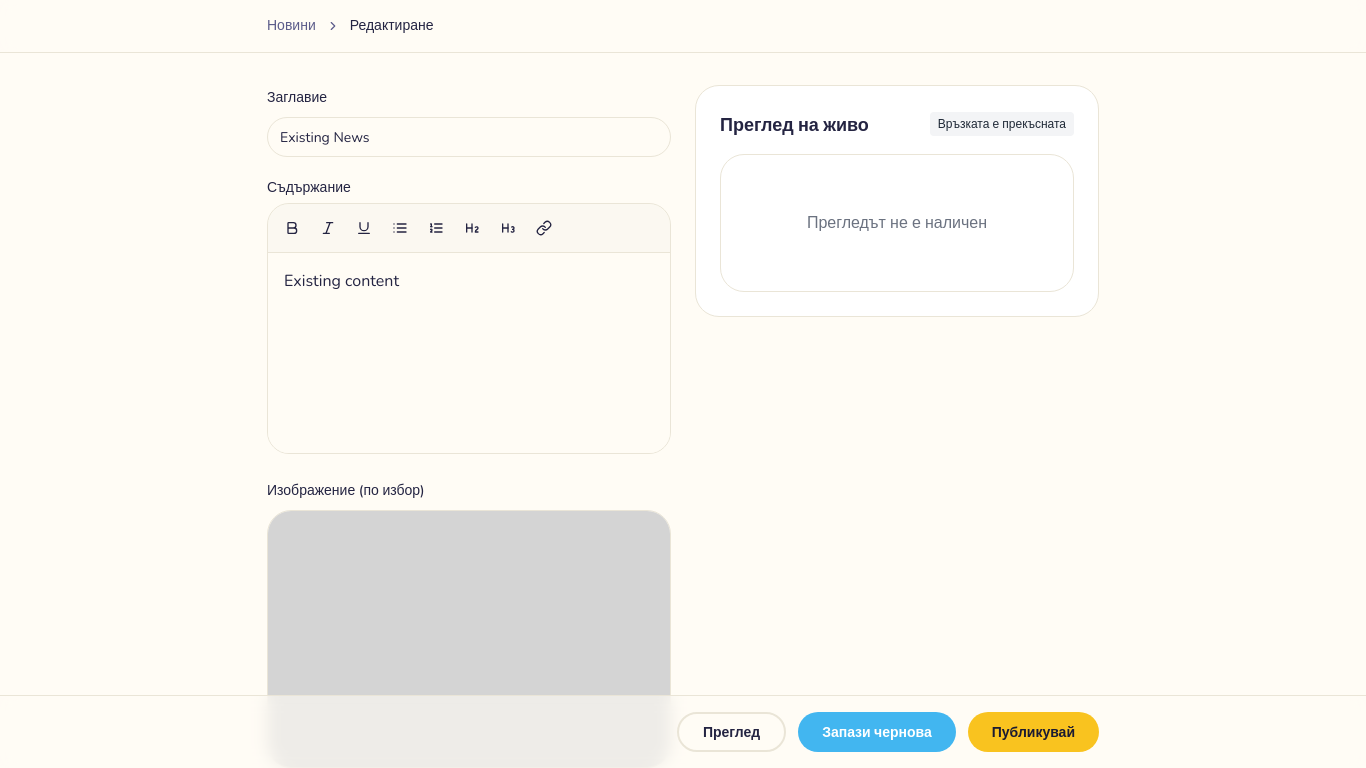
NewsEdit › Publish/Update Functionality (Story 3.8) › disables all buttons during publish operation
Check: the field showing "Existing News" is shown, box [267,117,671,157]
Note: Click publish
Click the button "Публикувай" at [1033, 732], box [968,712,1099,752]
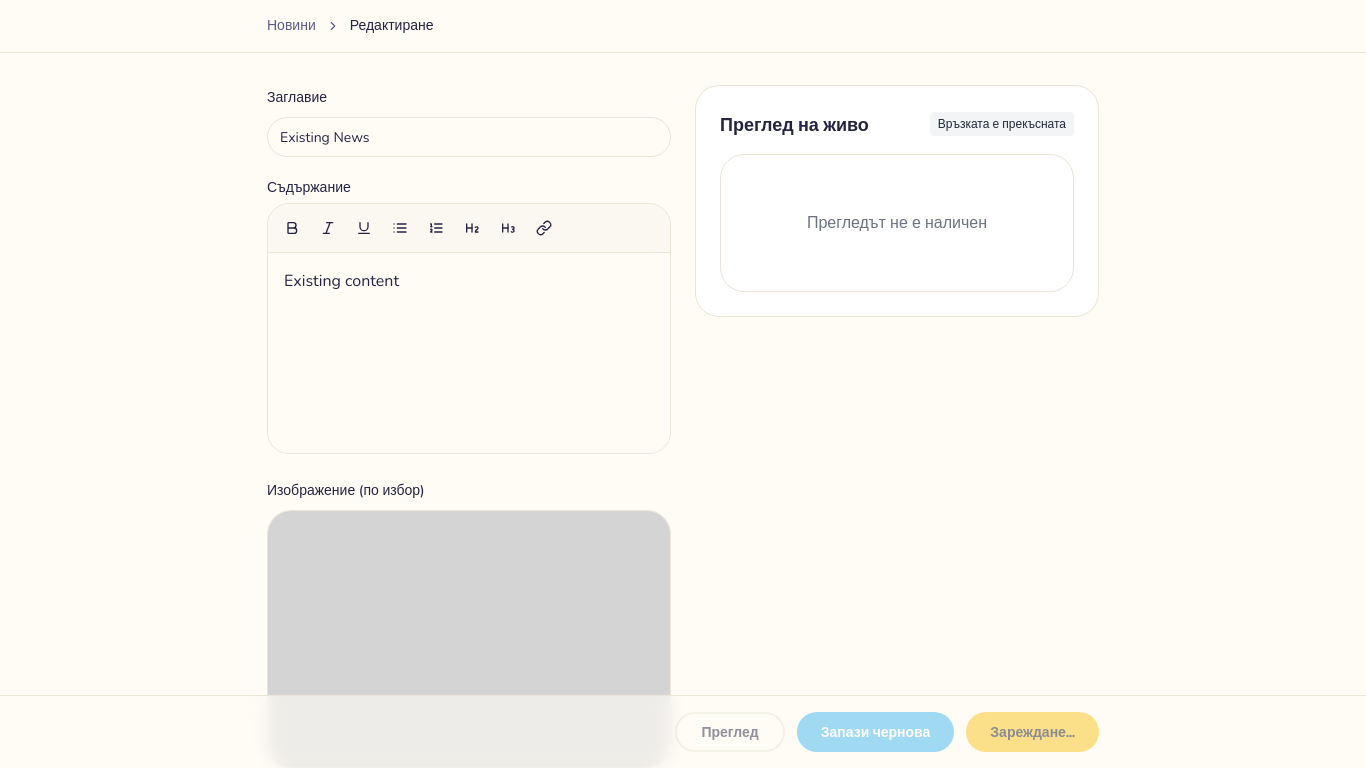
Check: the button named "Публикувай" is disabled, box [966,712,1099,752]
Check: the button "Запази чернова" is disabled, box [797,712,954,752]
Check: the button "Преглед" is disabled, box [676,712,785,752]
